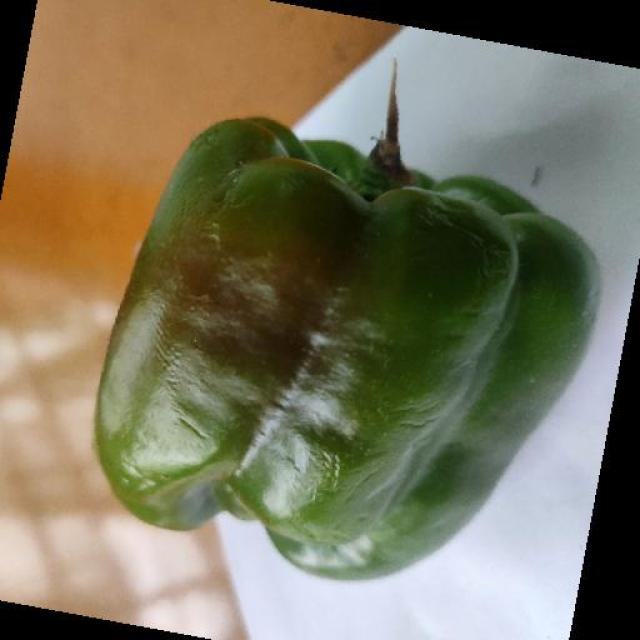Stale_Capsicum: (72, 154, 570, 547)
